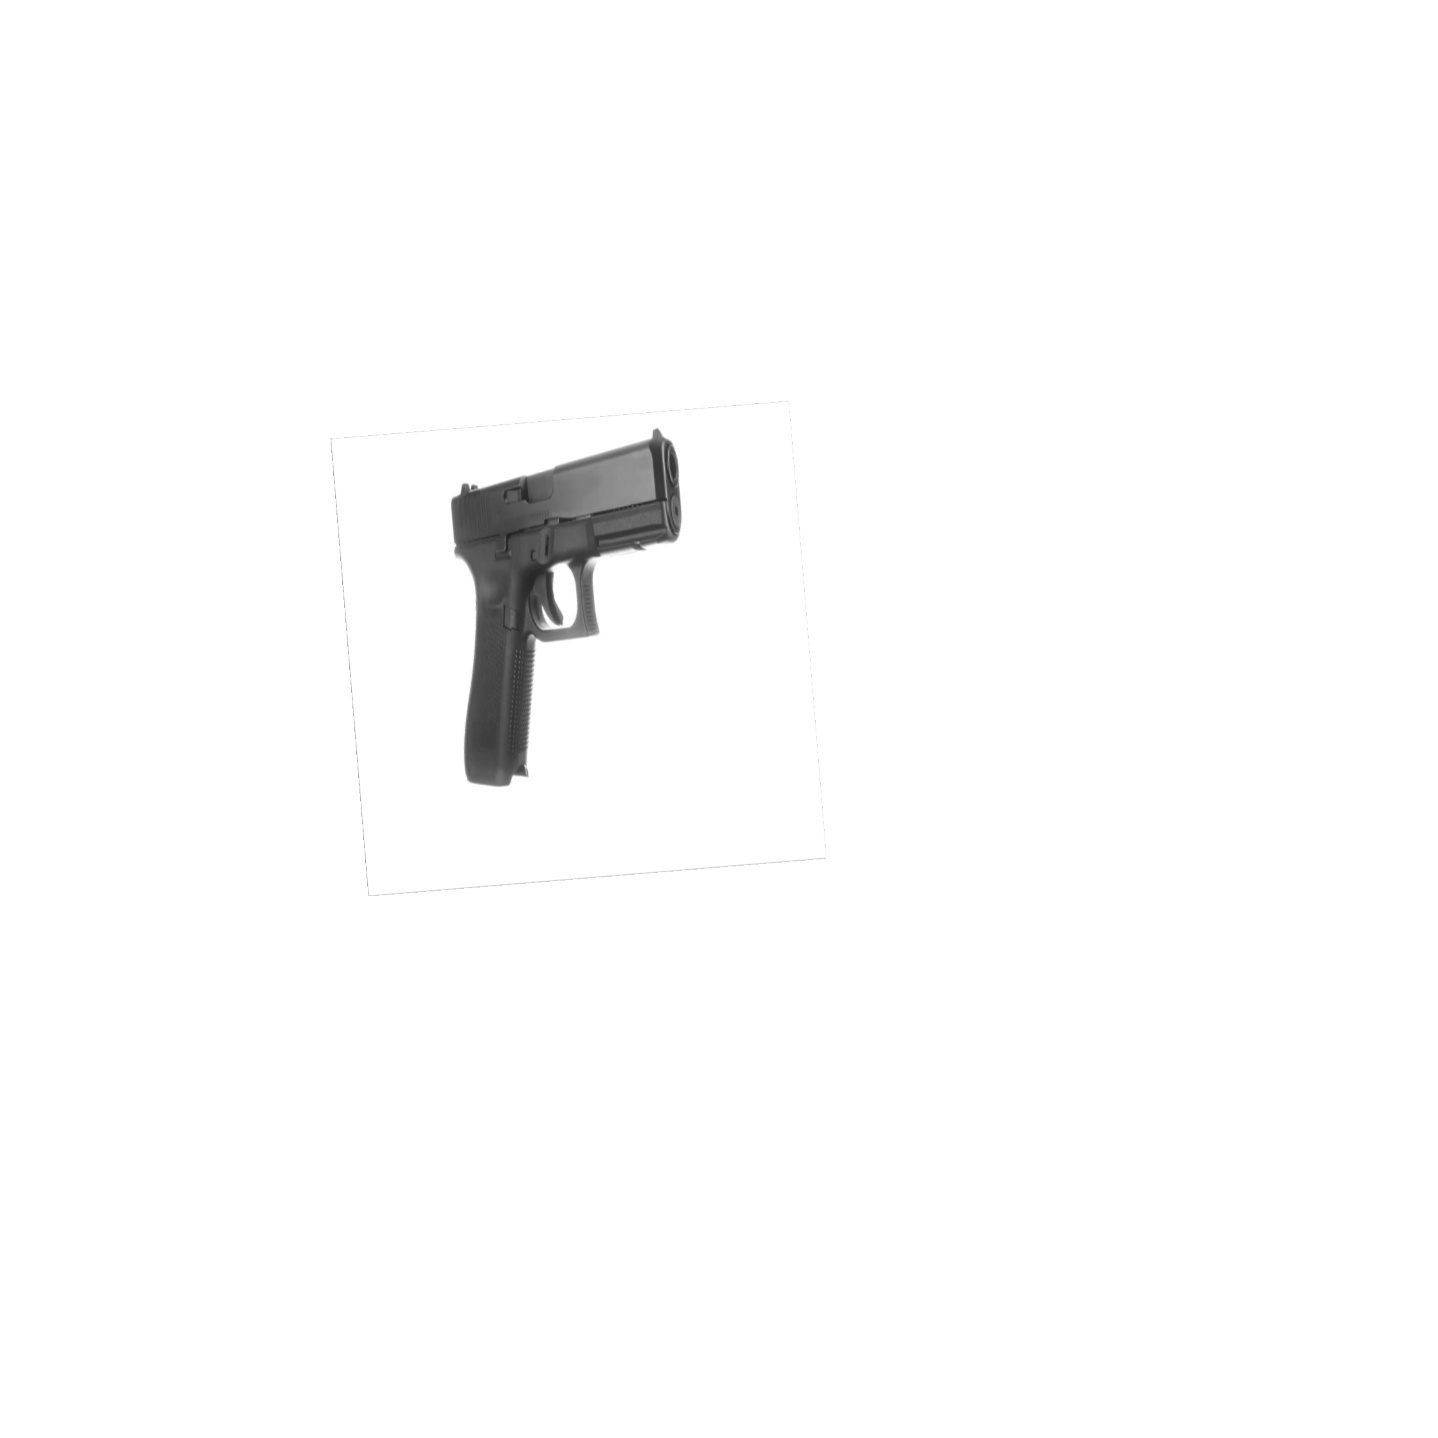gun: (448, 429, 689, 787)
